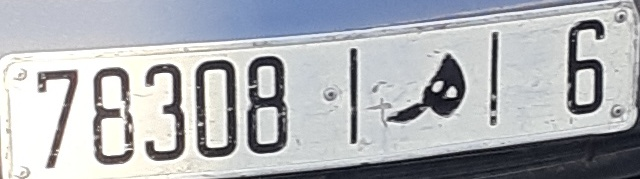0: (193, 59, 238, 161)
3: (143, 62, 187, 161)
6: (563, 17, 605, 117)
7: (35, 68, 78, 171)
8: (244, 55, 290, 156), (91, 65, 136, 166)
h: (383, 53, 472, 125)
